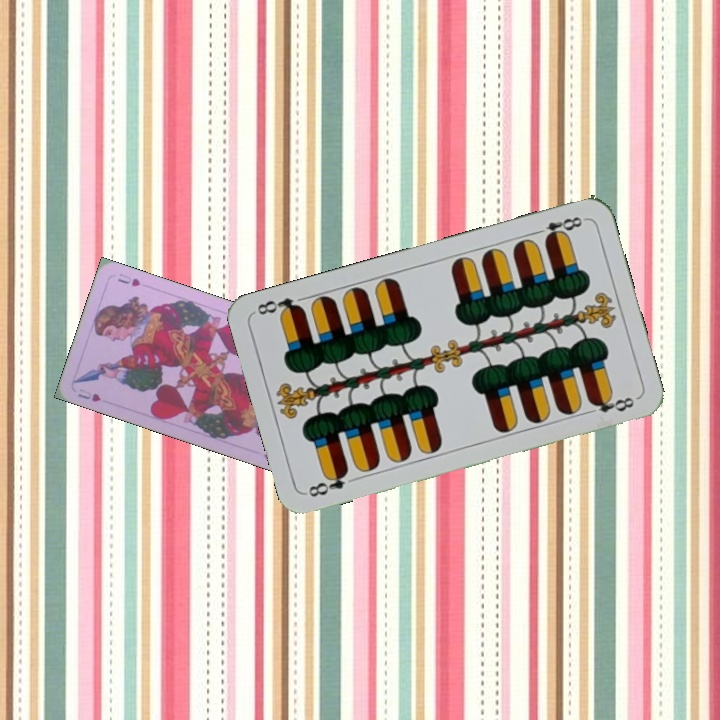E8: (530, 212, 588, 244), (304, 466, 351, 500)
HU: (74, 385, 104, 405)
